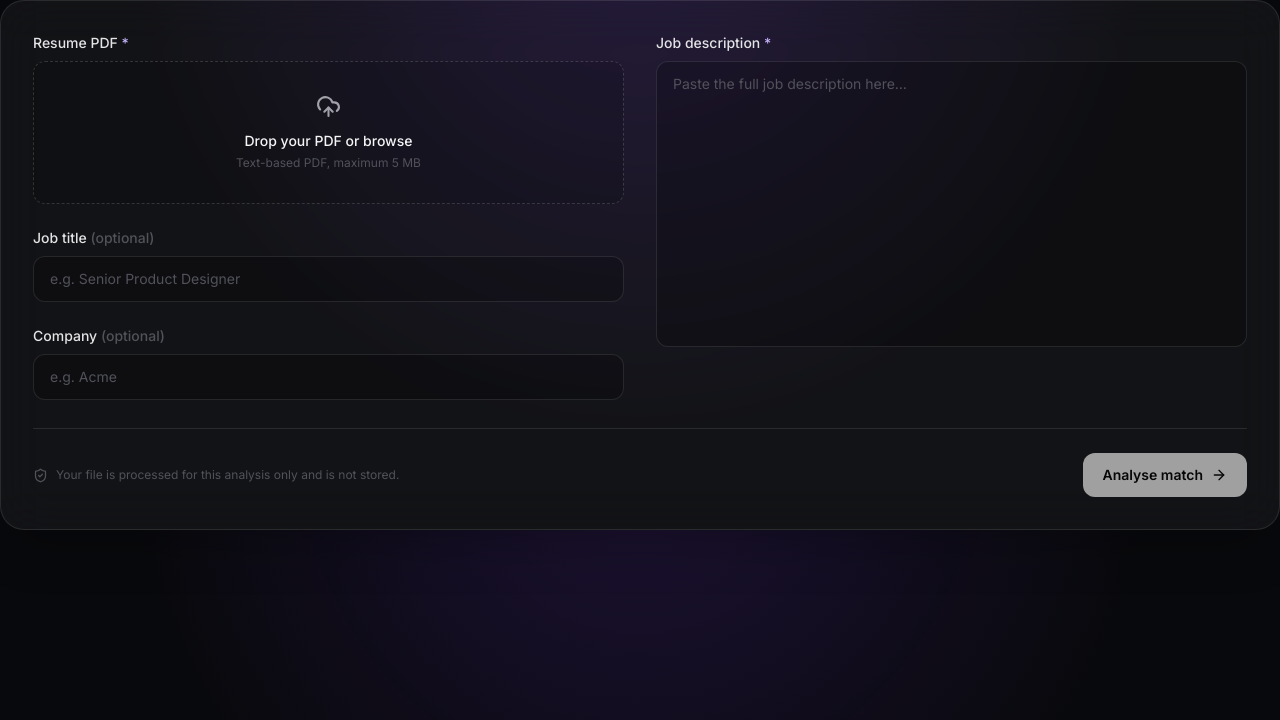
it: JobForm › disables submission while required inputs are missing
Expected: the button "Analyse match" is disabled, 1082,453 -> 1247,497
In the text box labelled "Job description *": (952, 204) 656,61 -> 1247,347, type "Too short"
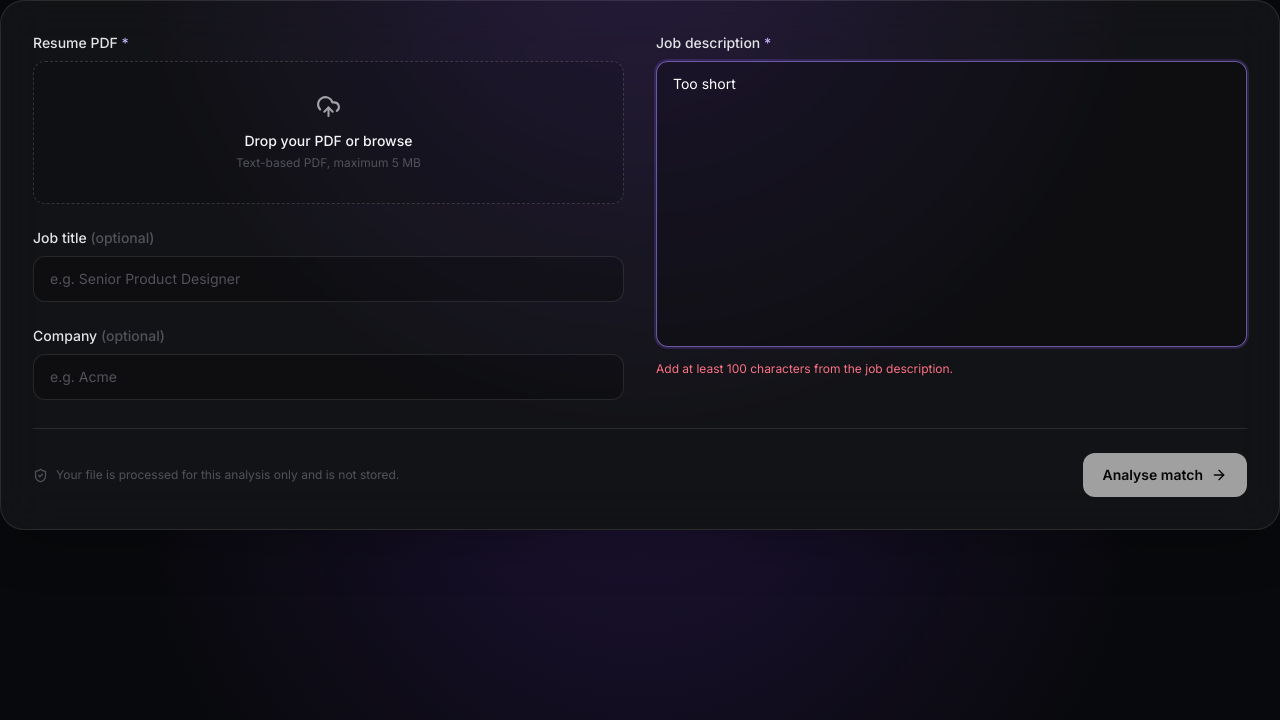
Now the text "Add at least 100 characters from the job description." is shown, box 656,361 -> 953,376
